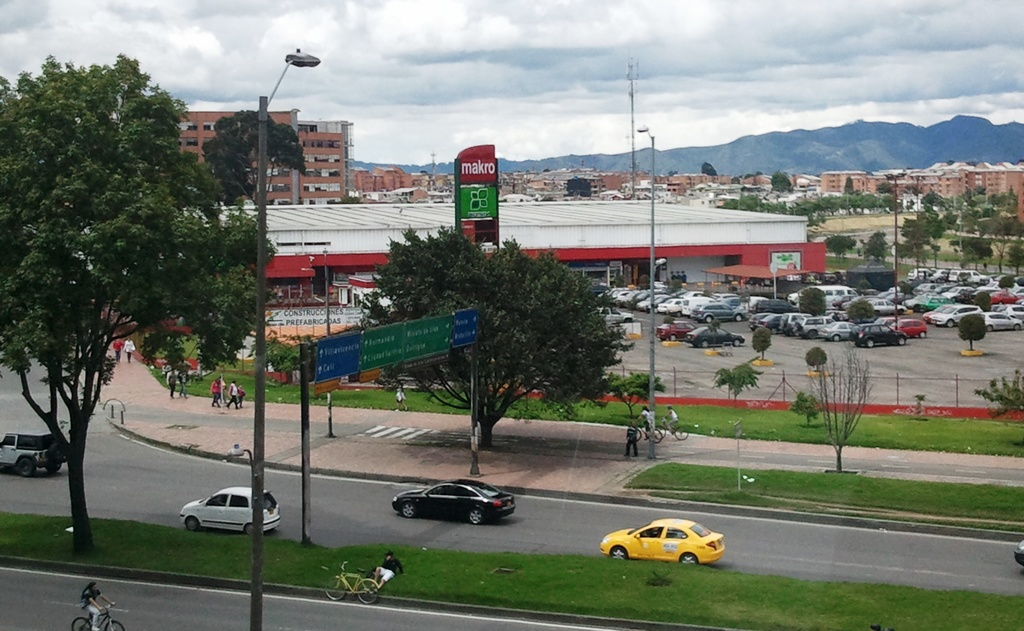Tree: (3, 36, 236, 526), (359, 220, 638, 451), (897, 184, 1023, 274), (194, 109, 309, 204), (808, 339, 872, 470), (714, 181, 912, 223), (598, 370, 668, 416), (709, 365, 769, 401), (958, 312, 986, 349), (799, 286, 828, 318), (748, 324, 771, 362), (823, 233, 856, 258), (863, 228, 887, 262), (850, 295, 874, 323), (768, 170, 792, 194), (567, 177, 594, 198), (698, 161, 720, 177)
